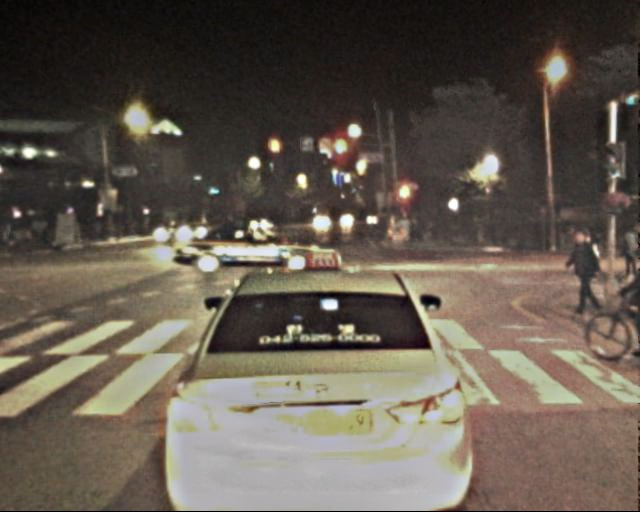person: (565, 231, 599, 314), (619, 223, 640, 280), (409, 218, 439, 246), (6, 216, 25, 247)
